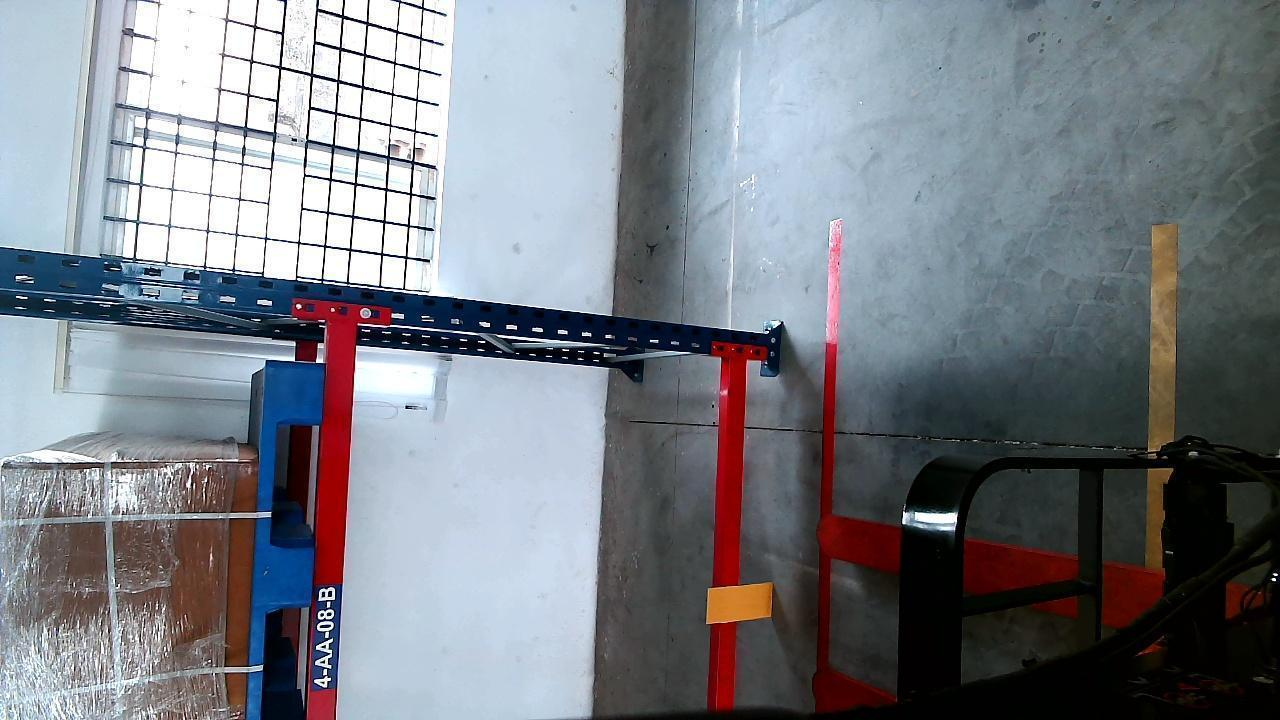red_line: (811, 200, 846, 720)
yellow_line: (1144, 216, 1178, 571)
